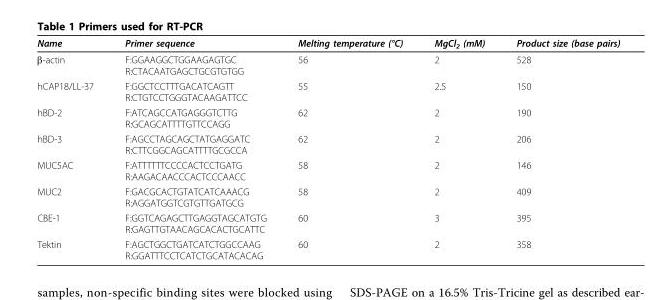table: (36, 36, 619, 260)
table column: (108, 36, 281, 260), (281, 36, 417, 260), (500, 36, 619, 260), (417, 36, 500, 260), (36, 36, 108, 260)
table column header: (36, 36, 619, 50)
table row: (36, 50, 619, 78), (36, 130, 619, 157), (36, 209, 619, 236), (36, 78, 619, 104), (36, 104, 619, 130), (36, 157, 619, 183), (36, 183, 619, 209), (36, 236, 619, 260), (36, 36, 619, 50)
